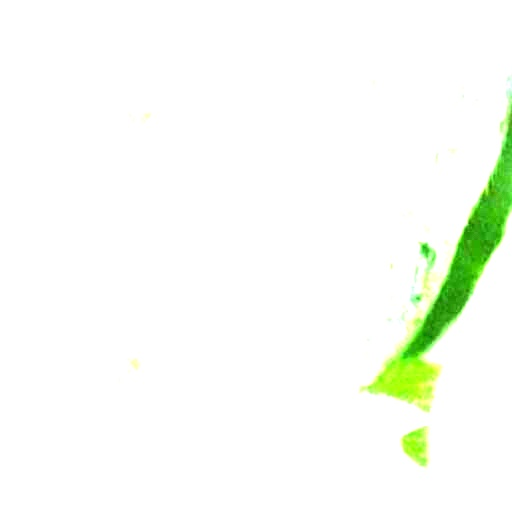Angular Leafspot: (44, 0, 511, 500)
